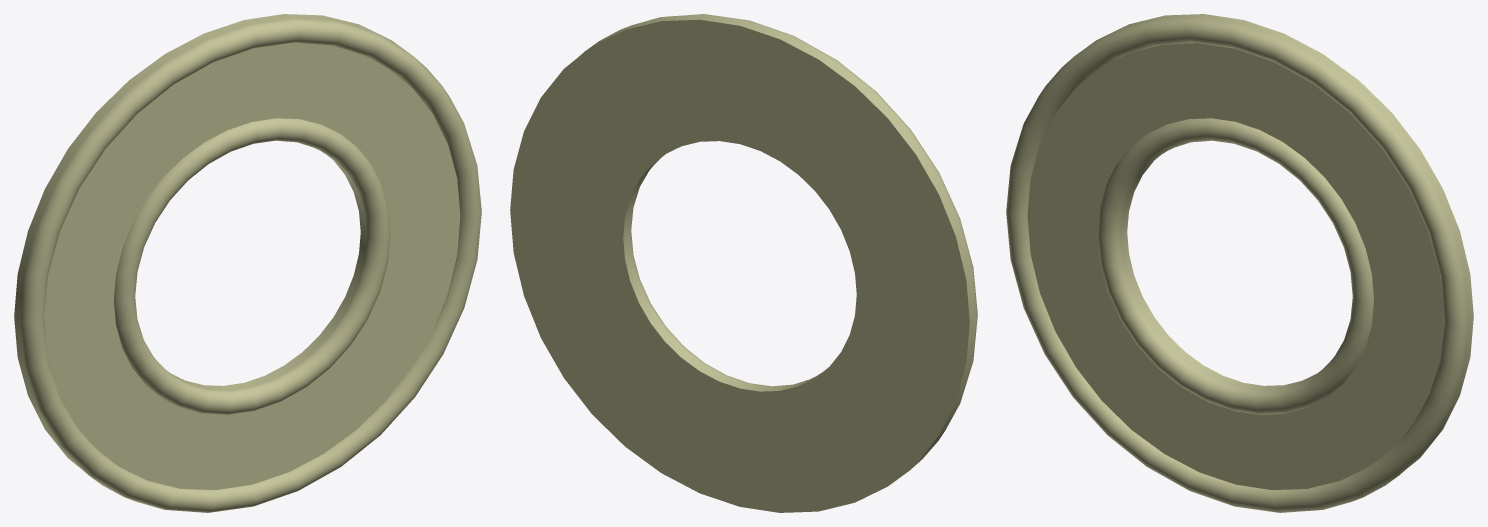
3 views of the same model, side by side, from view 1: azimuth 30°, elevation 25°; view 2: azimuth 150°, elevation 25°; view 3: azimuth 330°, elevation 25° (orthographic).
Visible parts, largest first — view 1: nist_ftc_11_asme1; view 2: nist_ftc_11_asme1; view 3: nist_ftc_11_asme1.
Part boxes in pixels (x1=…): nist_ftc_11_asme1: x1=14, y1=14, x2=481, y2=512; nist_ftc_11_asme1: x1=510, y1=14, x2=977, y2=512; nist_ftc_11_asme1: x1=1006, y1=14, x2=1473, y2=512.
Bounding box in the file's own units: 0.063 × 0.063 × 0.003.
